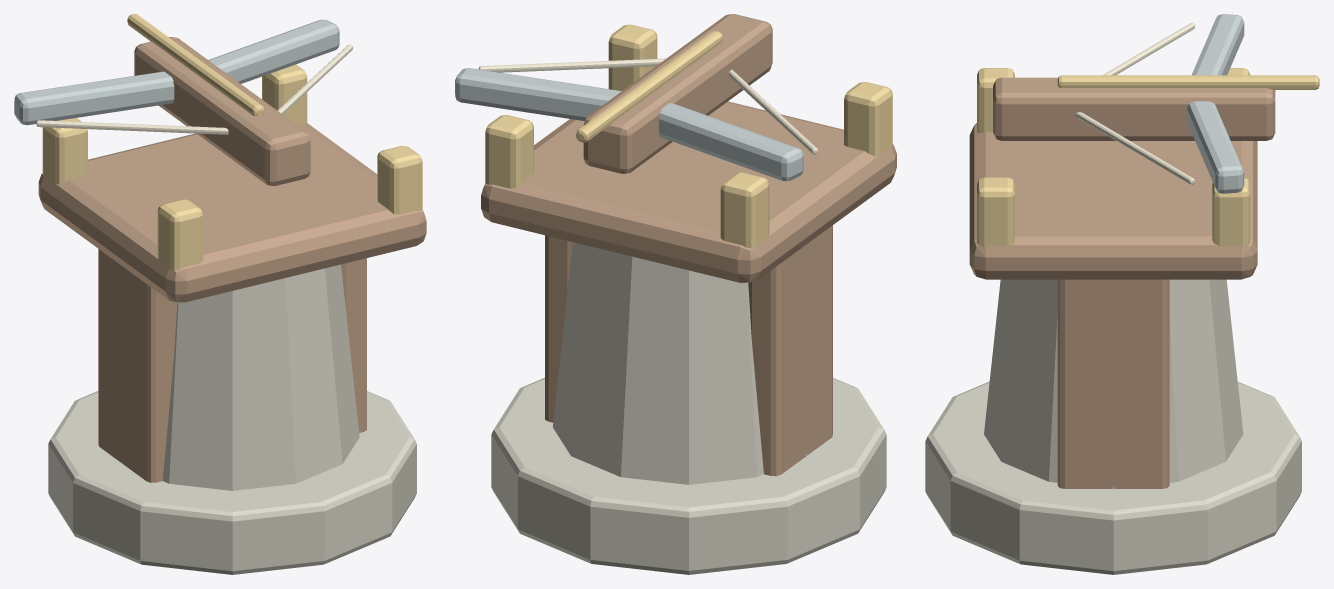
The model's file is tower_bolt.glb.
The picture shows the model from 3 angles, left to right: view 1: azimuth 30°, elevation 25°; view 2: azimuth 150°, elevation 25°; view 3: azimuth 270°, elevation 25°; orthographic projection. The views are drawn at different scales.
Visible parts, largest first — view 1: Sculpt__Limestone, Sculpt__Honey oak, Sculpt__Hammered brass, Sculpt_Turret_Honey oak, Sculpt_Turret_Forged iron, Sculpt_Turret_Hammered brass, Sculpt_Turret_Ivory; view 2: Sculpt__Limestone, Sculpt__Honey oak, Sculpt__Hammered brass, Sculpt_Turret_Honey oak, Sculpt_Turret_Forged iron, Sculpt_Turret_Hammered brass, Sculpt_Turret_Ivory; view 3: Sculpt__Limestone, Sculpt__Honey oak, Sculpt_Turret_Honey oak, Sculpt__Hammered brass, Sculpt_Turret_Forged iron, Sculpt_Turret_Hammered brass, Sculpt_Turret_Ivory.
Boxes of the visible parts, bbox=[...] form: Sculpt__Limestone: bbox=[48, 264, 416, 574]; Sculpt__Honey oak: bbox=[38, 123, 426, 482]; Sculpt__Hammered brass: bbox=[42, 64, 422, 270]; Sculpt_Turret_Honey oak: bbox=[134, 37, 310, 185]; Sculpt_Turret_Forged iron: bbox=[14, 19, 339, 125]; Sculpt_Turret_Hammered brass: bbox=[127, 14, 264, 115]; Sculpt_Turret_Ivory: bbox=[36, 44, 353, 134]; Sculpt__Limestone: bbox=[491, 242, 886, 574]; Sculpt__Honey oak: bbox=[481, 101, 896, 476]; Sculpt__Hammered brass: bbox=[485, 24, 892, 248]; Sculpt_Turret_Honey oak: bbox=[583, 14, 772, 173]; Sculpt_Turret_Forged iron: bbox=[455, 68, 803, 181]; Sculpt_Turret_Hammered brass: bbox=[576, 31, 722, 142]; Sculpt_Turret_Ivory: bbox=[478, 58, 818, 154]; Sculpt__Limestone: bbox=[925, 279, 1301, 574]; Sculpt__Honey oak: bbox=[969, 123, 1257, 488]; Sculpt_Turret_Honey oak: bbox=[993, 77, 1275, 140]; Sculpt__Hammered brass: bbox=[977, 68, 1250, 247]; Sculpt_Turret_Forged iron: bbox=[1187, 14, 1244, 193]; Sculpt_Turret_Hammered brass: bbox=[1057, 75, 1319, 89]; Sculpt_Turret_Ivory: bbox=[1075, 23, 1194, 184].
Size of the model in its own units: 1.28 by 1.58 by 1.34.
